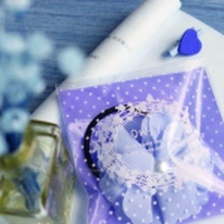snack: (48, 50, 224, 224)
